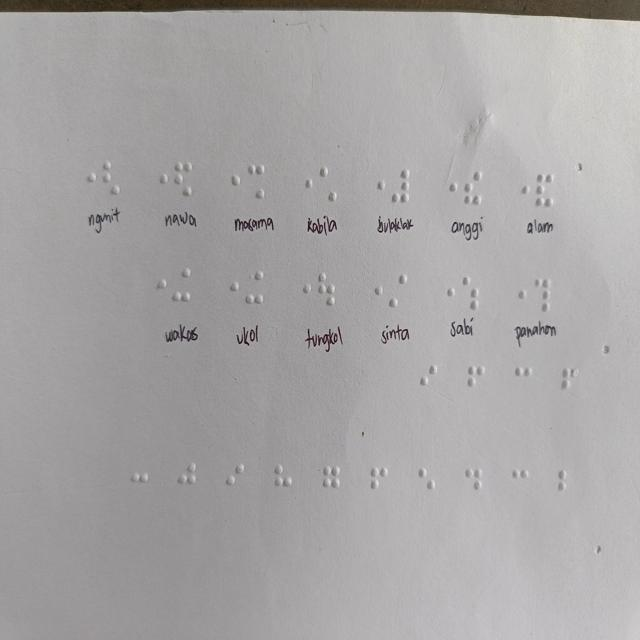dot_5: (77, 161, 96, 195), (150, 163, 169, 197), (293, 166, 312, 200), (222, 165, 241, 198), (367, 170, 386, 203), (510, 174, 529, 207), (437, 276, 456, 309), (508, 280, 527, 313), (149, 268, 167, 302), (365, 273, 383, 307), (439, 172, 457, 205), (222, 273, 240, 306), (294, 273, 312, 306)
two_cell_non_alphabet_alam: (535, 172, 554, 206)
two_cell_non_alphabet_anggi: (463, 172, 482, 205)
two_cell_non_alphabet_bulaklak: (391, 169, 410, 202)
two_cell_non_alphabet_kabila: (319, 168, 338, 201)
two_cell_non_alphabet_masama: (247, 165, 265, 198)
two_cell_non_alphabet_nawa: (175, 162, 193, 195)
two_cell_non_alphabet_ngunit: (102, 162, 121, 195)
two_cell_non_alphabet_panahon: (533, 280, 552, 313)
two_cell_non_alphabet_sabi: (461, 277, 480, 310)
two_cell_non_alphabet_sinta: (388, 273, 407, 307)
two_cell_non_alphabet_tungkol: (317, 273, 335, 306)
two_cell_non_alphabet_ukol: (245, 270, 264, 303)
two_cell_non_alphabet_wakas: (172, 268, 191, 302)
